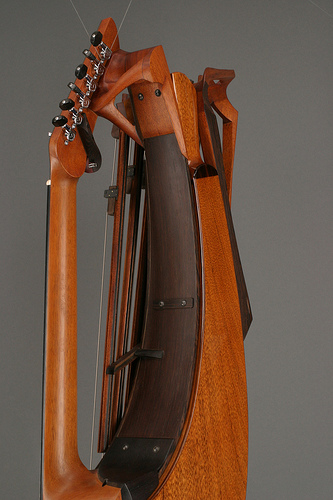guitar: (38, 13, 127, 500)
